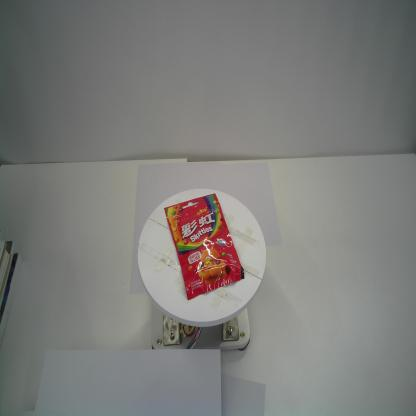Candy: (162, 191, 244, 302)
